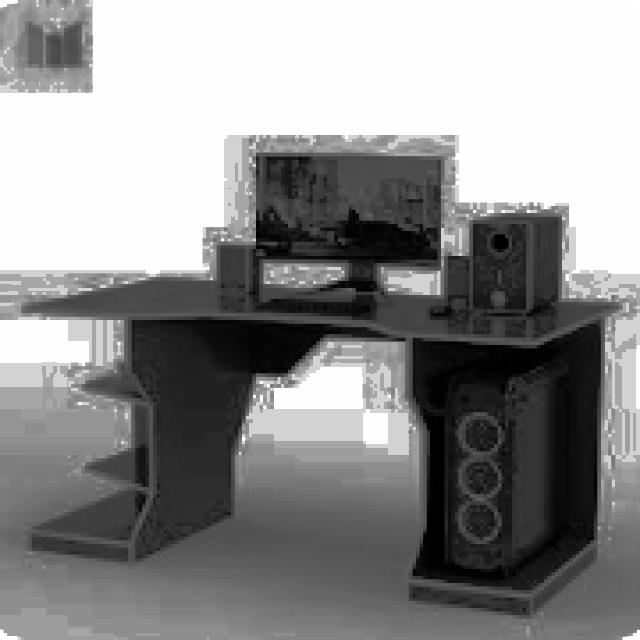table: (18, 274, 618, 615)
